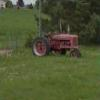Tractor: (23, 20, 83, 72)
